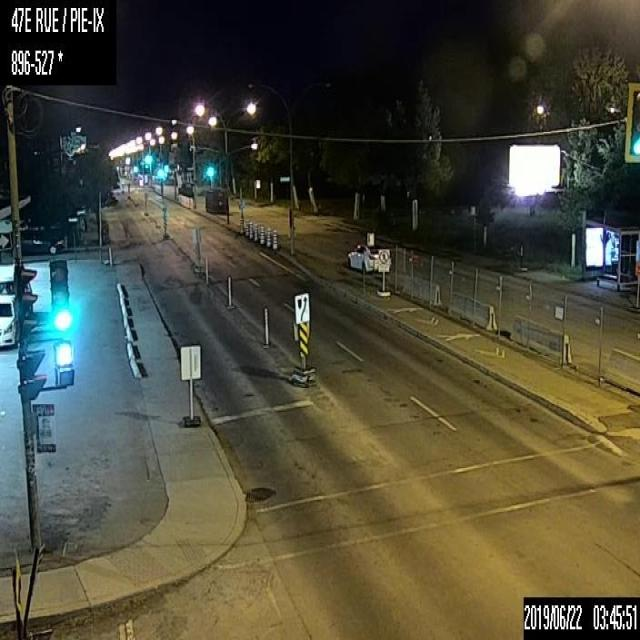construction: (263, 307, 269, 344), (227, 276, 231, 309), (205, 256, 208, 288), (259, 224, 263, 243), (253, 222, 257, 241), (244, 217, 248, 236), (266, 227, 270, 245), (249, 221, 253, 239), (273, 230, 277, 248)
vehicle: (344, 242, 392, 274), (0, 274, 33, 318), (8, 230, 64, 255), (0, 291, 19, 349)
